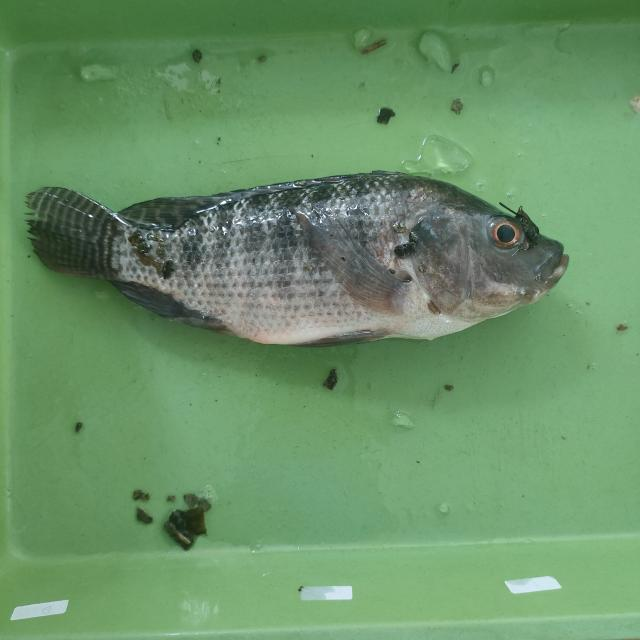Fresh: (28, 169, 432, 372), (458, 182, 542, 275)
